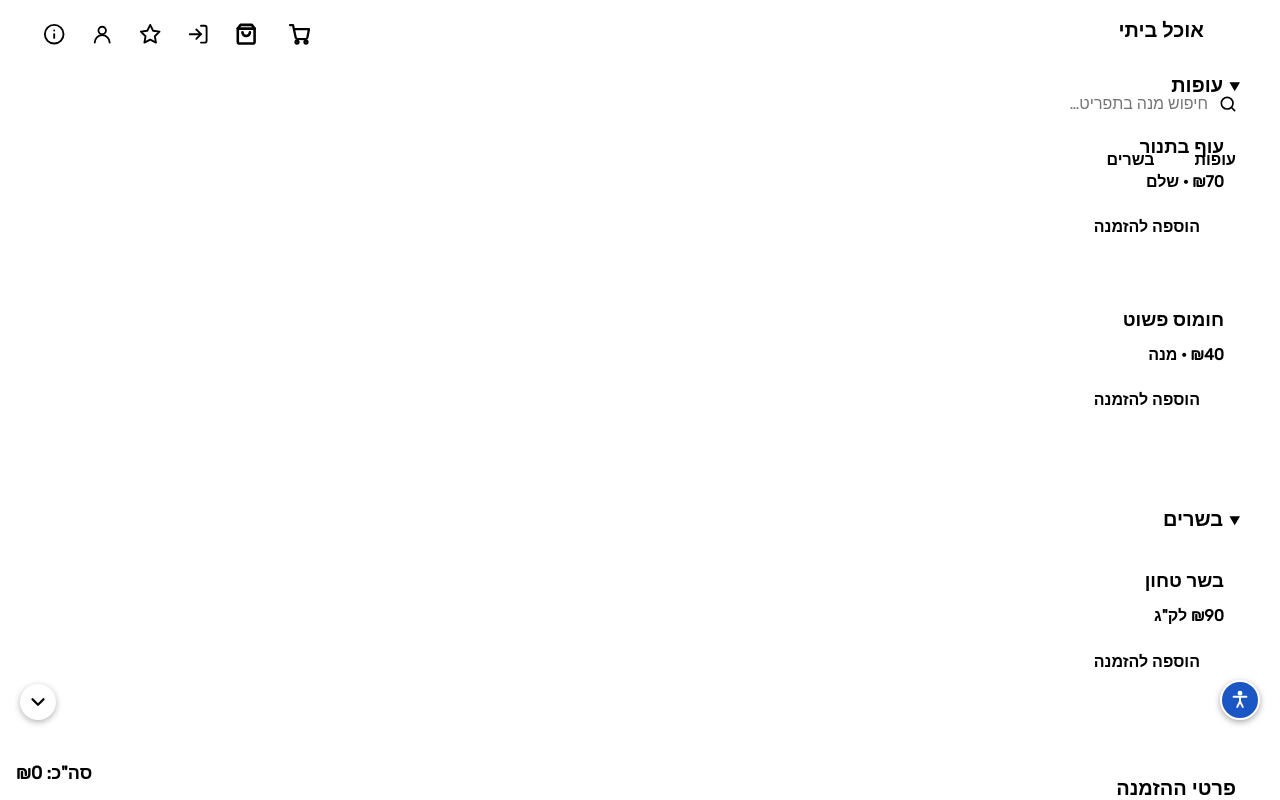
Delivery fee by zones › waits for an address, then adds the fee of its zone to the total
This screenshot has width=1280, height=800.
(page scrolled)
Click the button with aria-label "הוספה להזמנה: חומוס פשוט" at [1147, 400], box [1074, 378, 1220, 423]
(page scrolled)
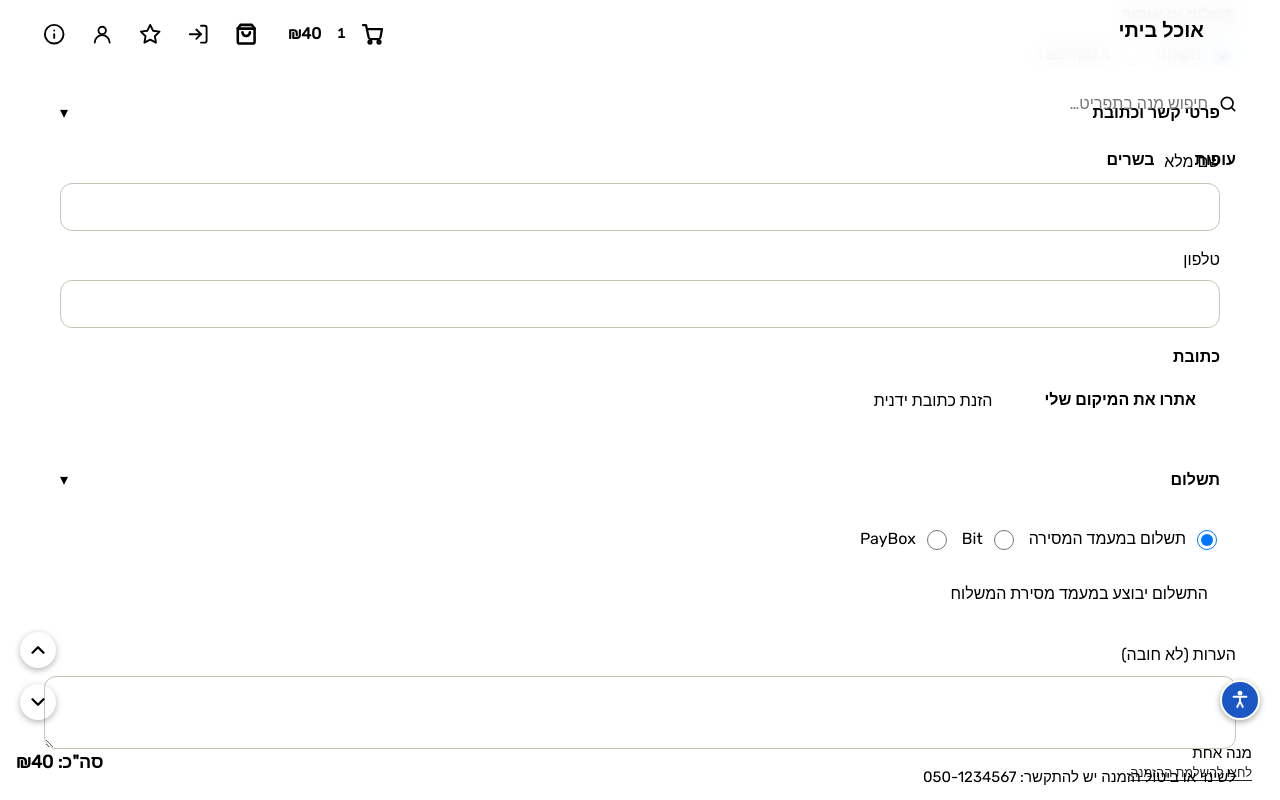
Click the button "הזנת כתובת ידנית" at [933, 401], box [862, 379, 1004, 423]
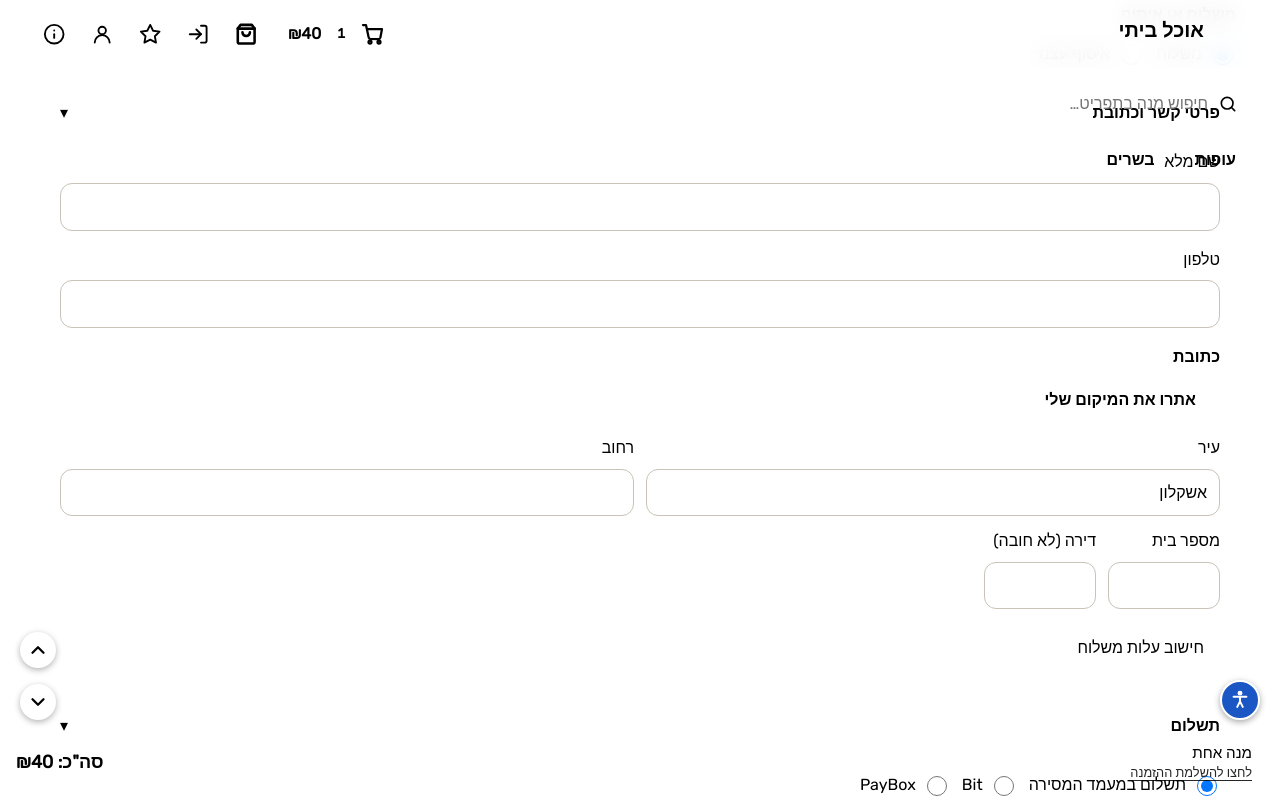
Type "הרצל" into the field labelled "רחוב" at [347, 492], box [60, 468, 634, 516]
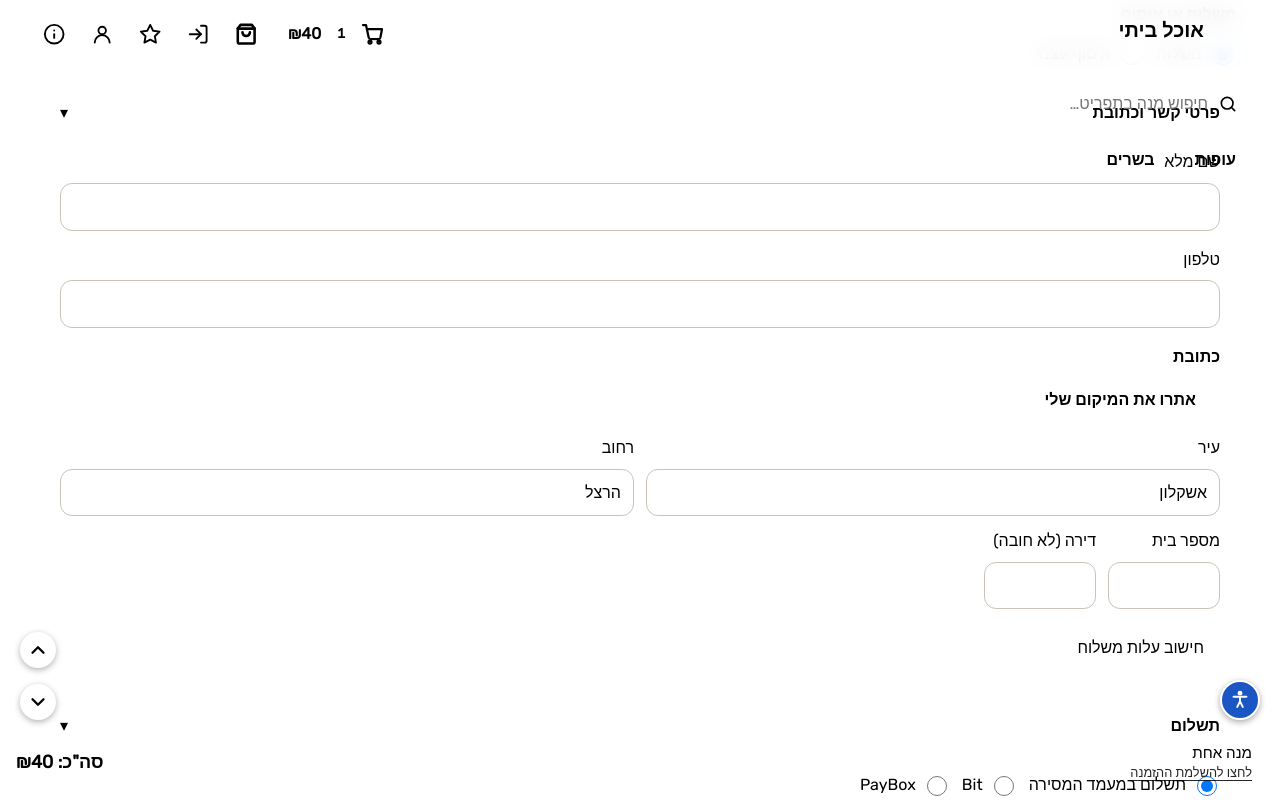
Type "1" into the field labelled "מספר בית" at [1164, 586], box [1108, 562, 1220, 609]
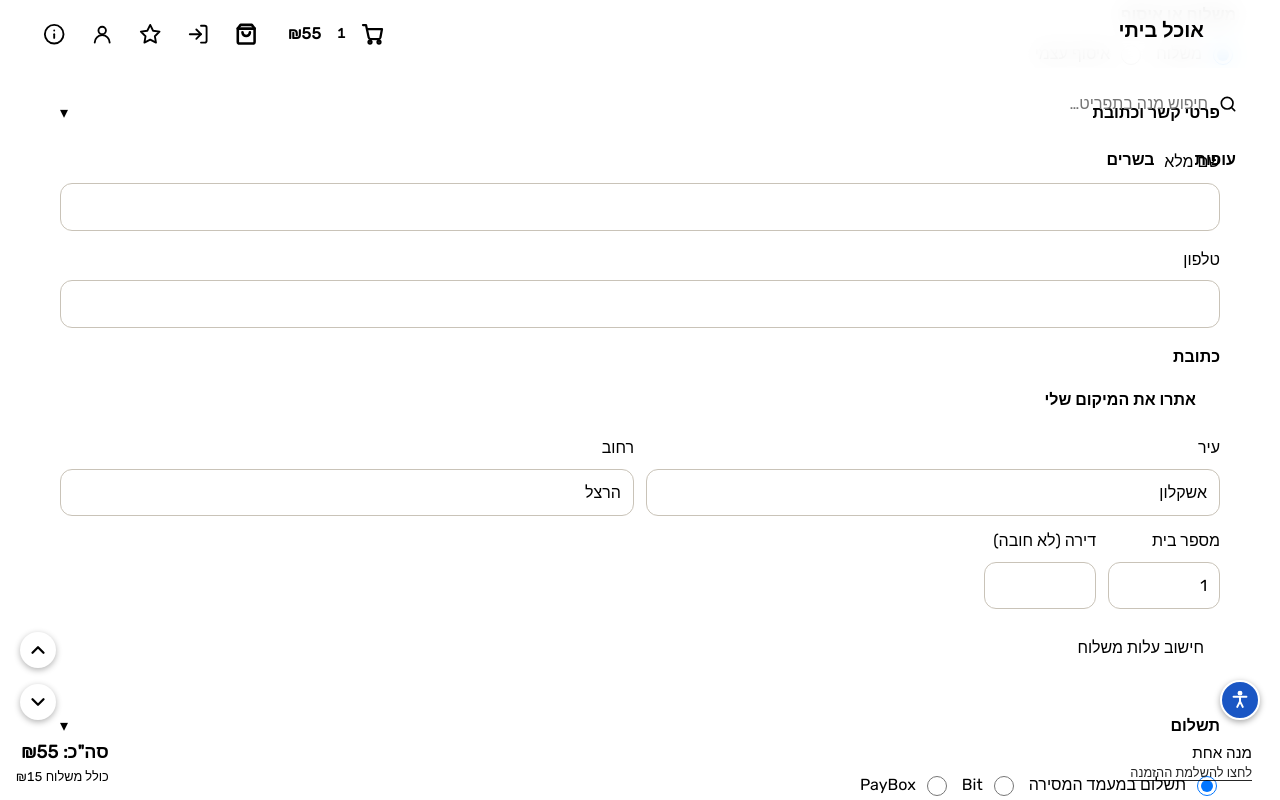
expect the text "סה\"כ: ₪55" is shown: met, box [16, 738, 109, 767]
expect the text "כולל משלוח ₪15" is shown: met, box [16, 767, 109, 788]
